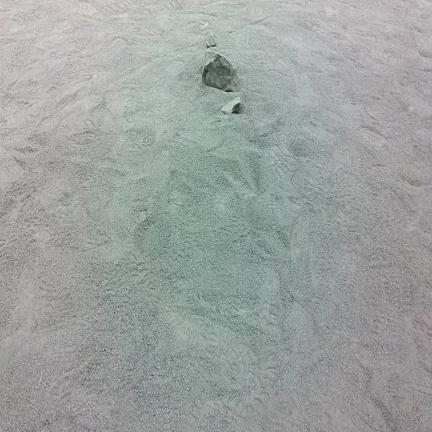Rock: (202, 48, 239, 91), (221, 97, 241, 114), (206, 34, 216, 47)
